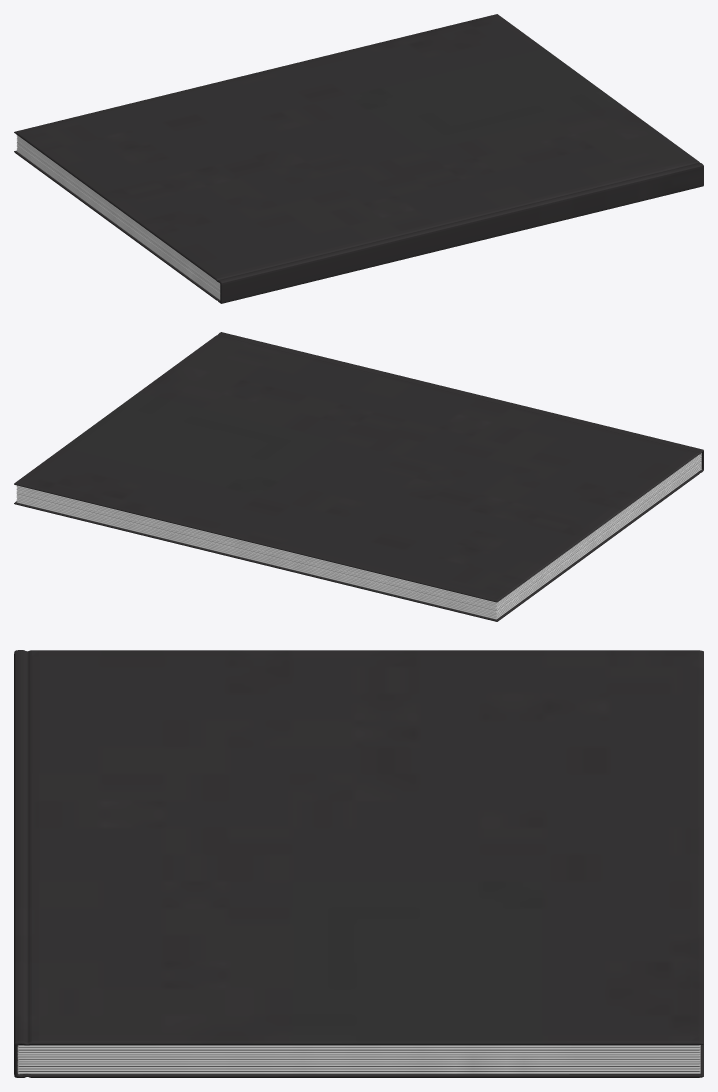
3 renders of one model, top to bottom at view 1: azimuth 30°, elevation 25°; view 2: azimuth 150°, elevation 25°; view 3: azimuth 270°, elevation 25°, orthographic. The views are drawn at different scales.
Visible parts, largest first — view 1: part_00, part_01; view 2: part_00, part_01; view 3: part_00, part_01.
Part boxes in pixels (box(x1,y1,x2,y2)): part_00: box(14, 14, 703, 303); part_01: box(17, 135, 220, 299); part_00: box(14, 332, 703, 621); part_01: box(16, 453, 701, 619); part_00: box(14, 650, 703, 1077); part_01: box(17, 1045, 700, 1074).
Bounding box in the file's own units: 0.2289 × 0.01 × 0.17.
Materials: 2 (2 with a texture image).
